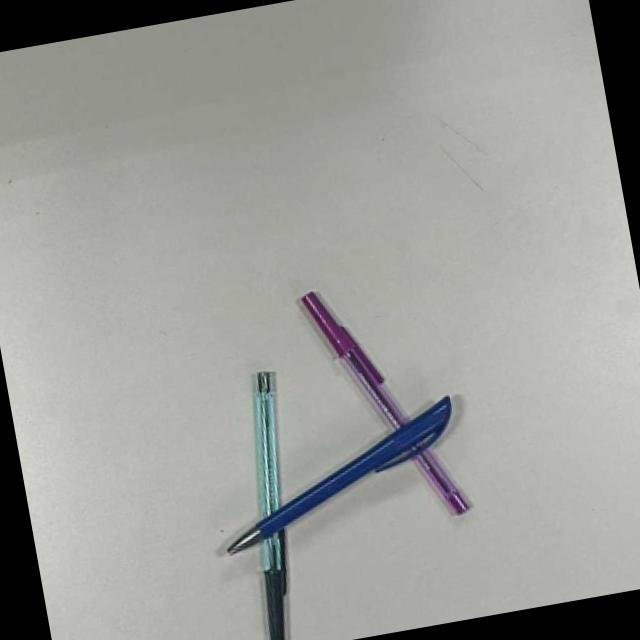caneta: (224, 394, 467, 575), (298, 287, 473, 517), (256, 371, 289, 640)
